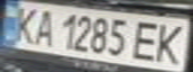1: (54, 10, 78, 52)
2: (72, 11, 93, 53)
5: (106, 16, 133, 58)
8: (90, 14, 112, 56)
A: (30, 7, 60, 47)
E: (127, 18, 166, 63)
K: (148, 20, 190, 65), (6, 3, 42, 45)
